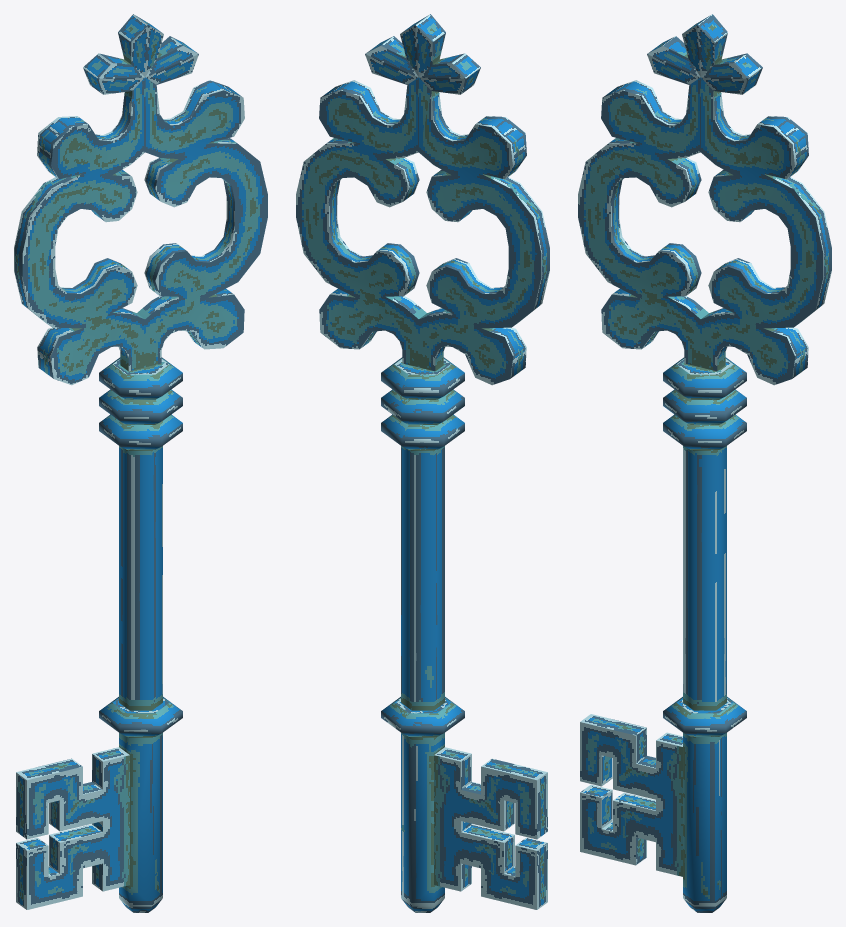
File: blue key.glb
3 views of the same model, side by side, from view 1: azimuth 30°, elevation 25°; view 2: azimuth 150°, elevation 25°; view 3: azimuth 330°, elevation 25° (orthographic).
Visible parts, largest first — view 1: Cylinder; view 2: Cylinder; view 3: Cylinder.
Part boxes in pixels (x1,y1,x2,y2): Cylinder: (14,14,267,912); Cylinder: (296,14,549,912); Cylinder: (578,14,831,912).
Bounding box in the file's own units: 0.4227 × 1.46 × 0.1249.
1 material, 1 textured.
